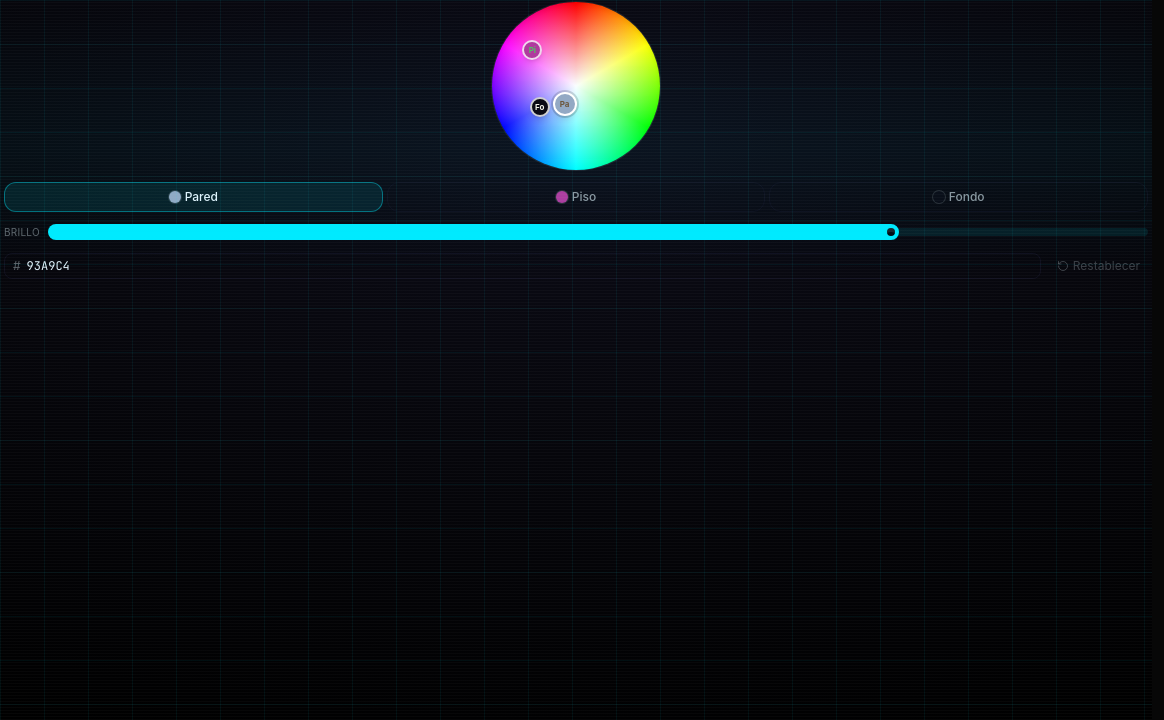
it: ModelColorWheel › el campo hex sigue al canal activo (Pared → Piso)
Cambiar al canal Piso.
Click the button "Piso" at coordinates (576, 197), box x1=387 y1=182 x2=765 y2=212
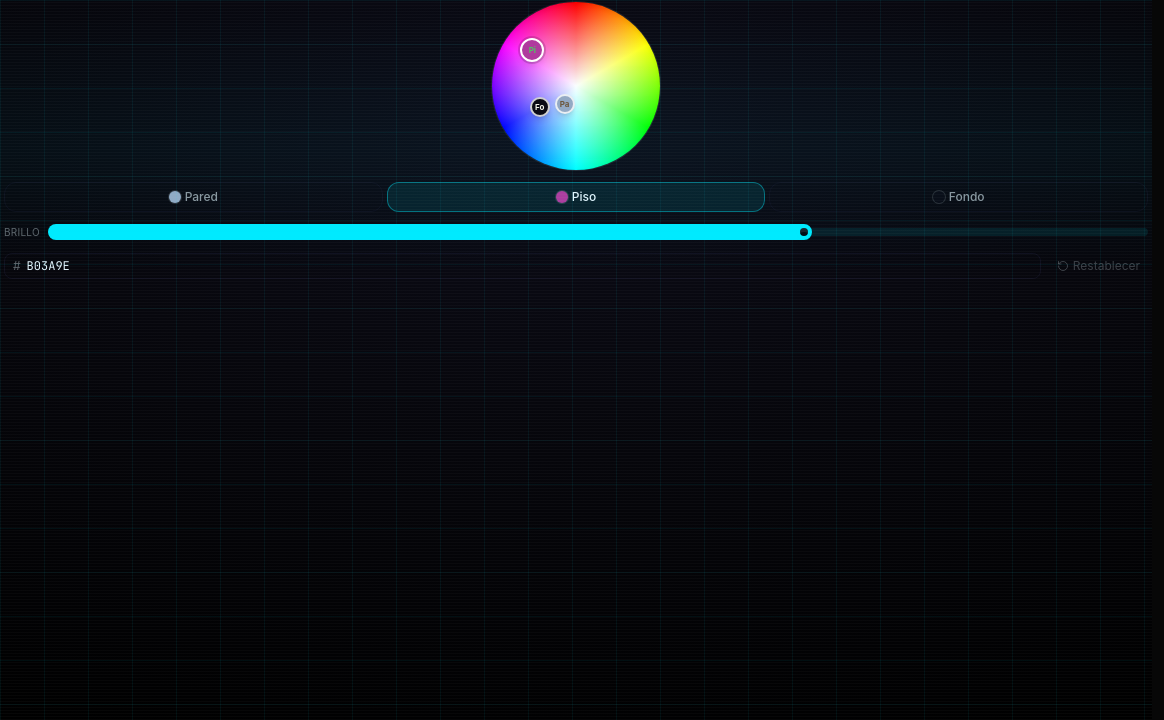
expect the field named "Código hex de piso" does not hold "93A9C4": met, box x1=27 y1=258 x2=1032 y2=274
